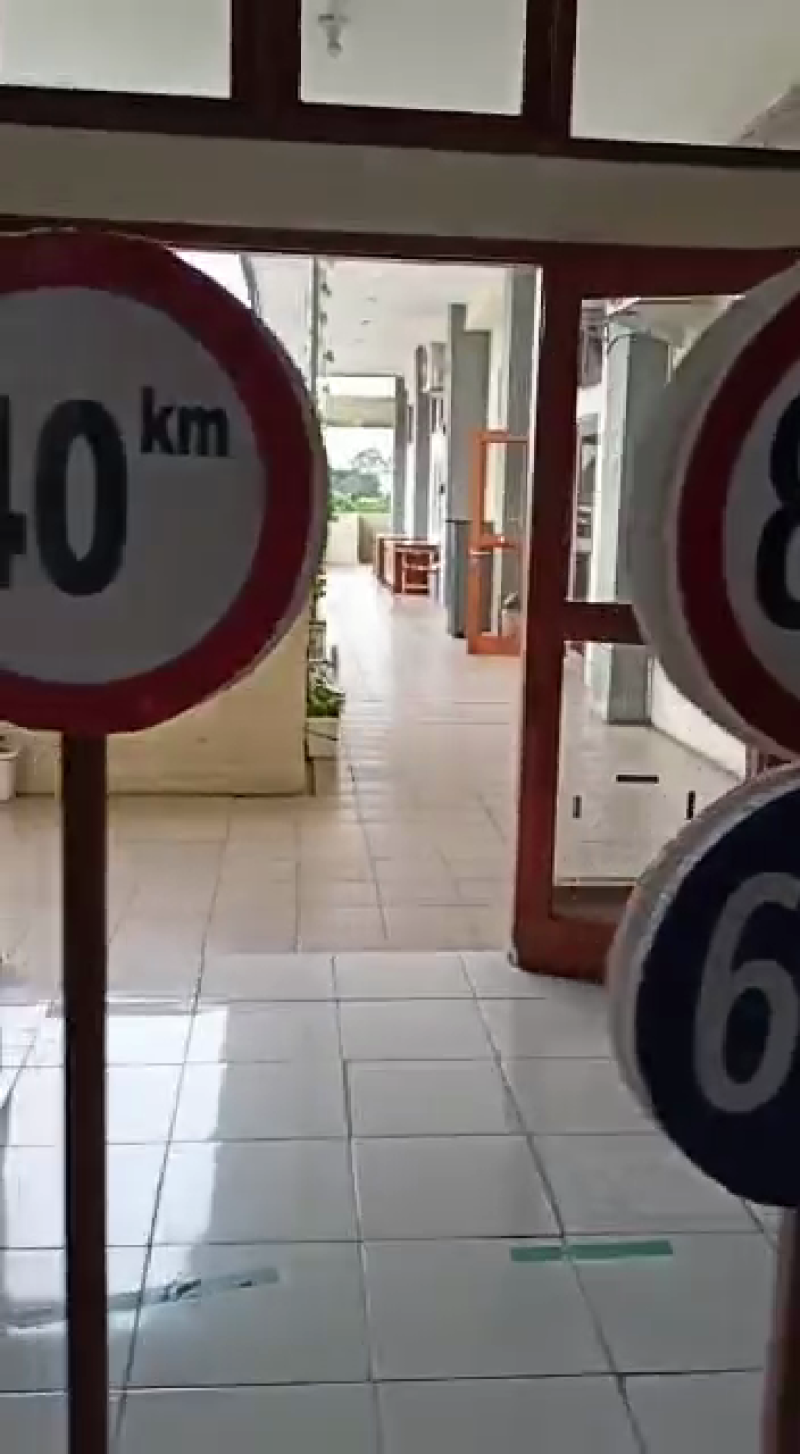batas maksimal 40kmperjam: (1, 220, 344, 755)
